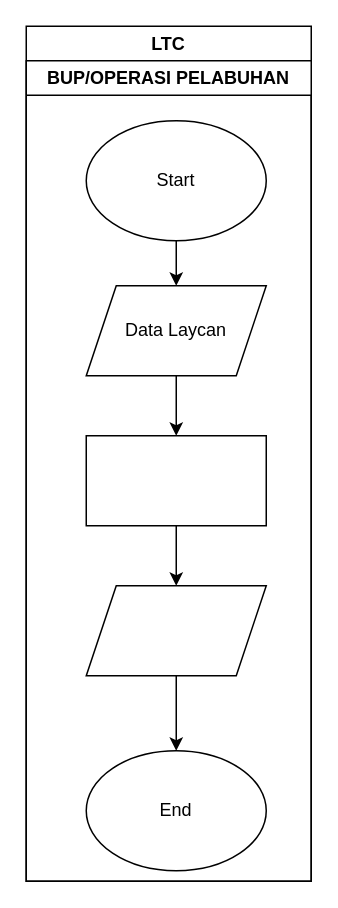
Image size: 338x908. Some labels were removed from this diagram. The box of each missing label's shape, as (x1, y1, x2, y2) in pixels:
Entry FInal Report by LTC: (85, 434, 266, 526)
FInal Report by LTC: (85, 584, 266, 676)
